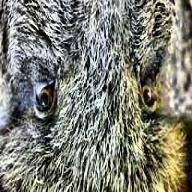boar: (0, 1, 191, 192)
